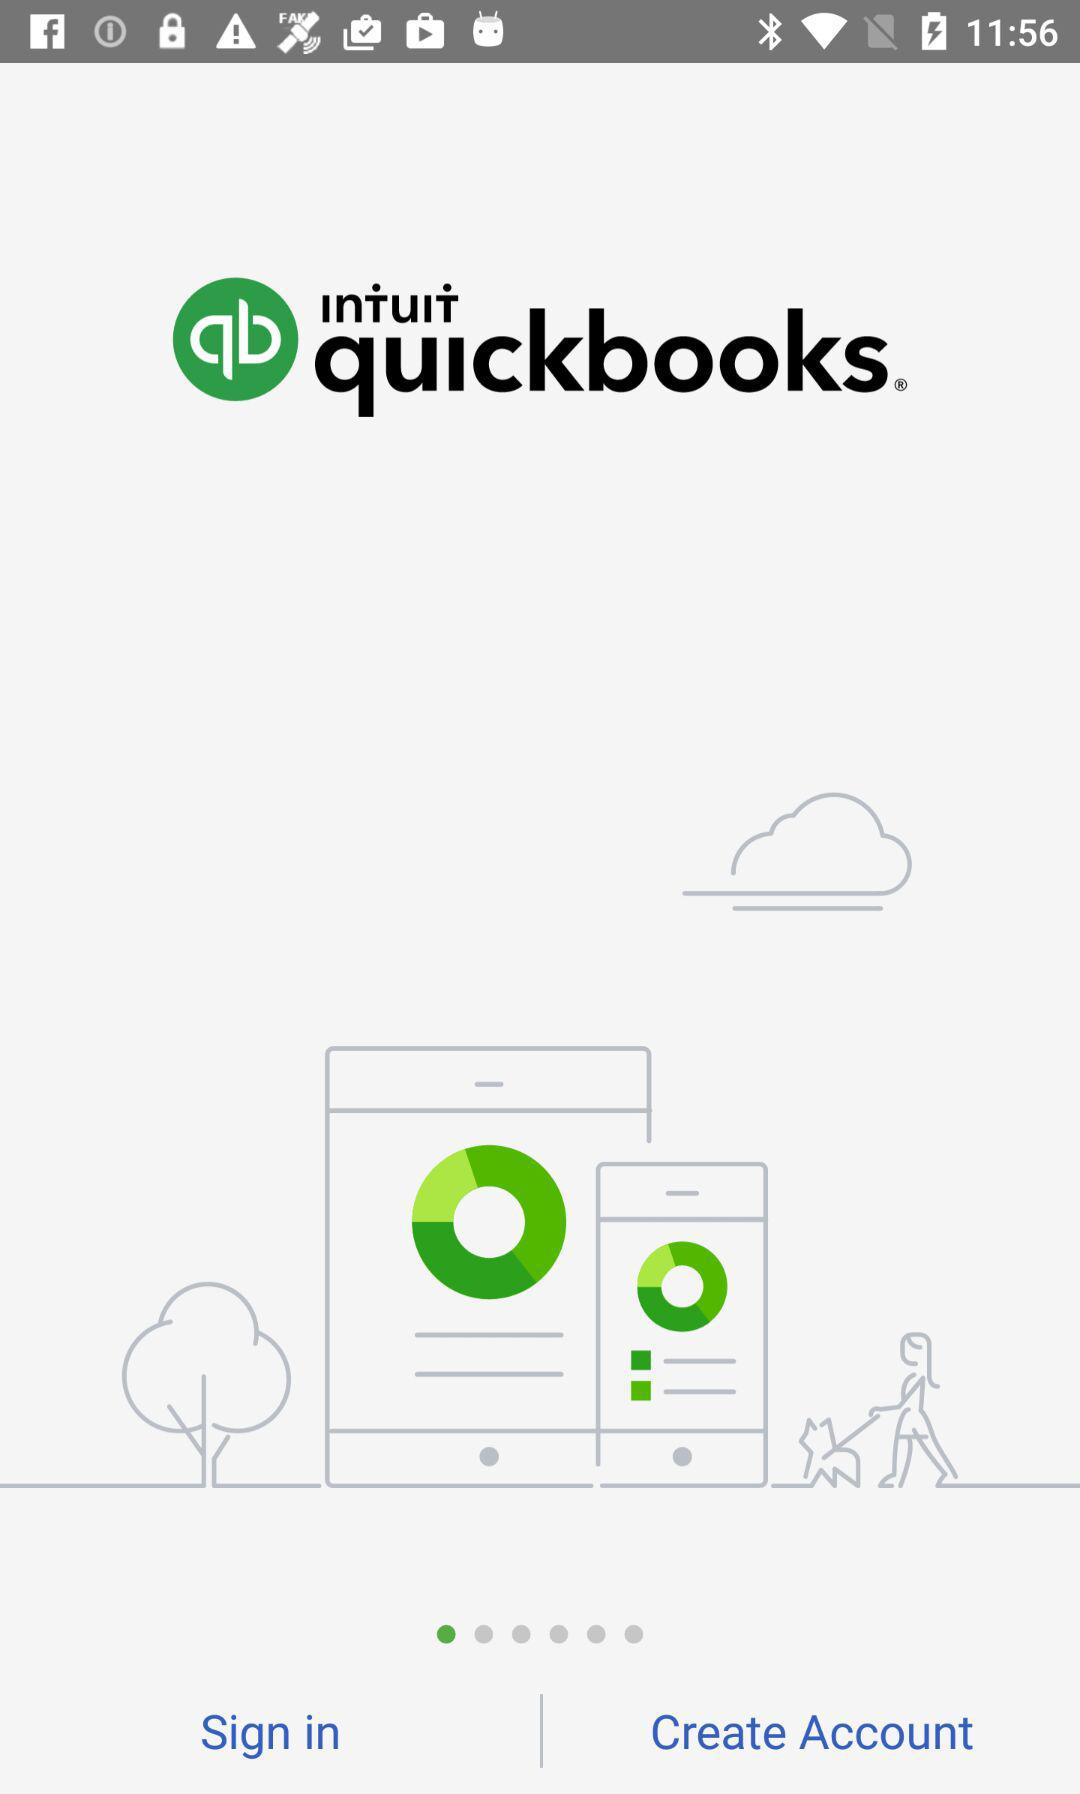Image: (104, 789, 965, 1494), (172, 276, 908, 422)
PageIndicator: (436, 1622, 646, 1648)
Text: (651, 1712, 975, 1753), (201, 1711, 342, 1761)
UpperTaskBar: (1, 1, 1080, 64)
